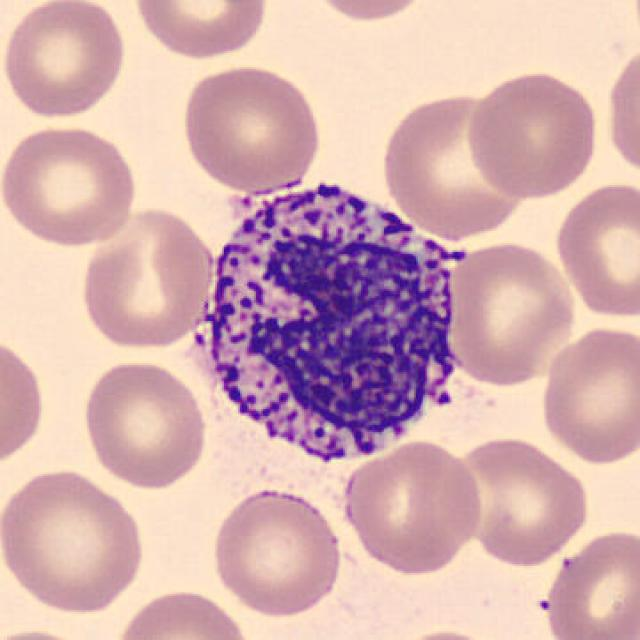Basophil: (176, 163, 482, 482)
RBC: (377, 86, 533, 244), (0, 463, 149, 615), (442, 236, 580, 388), (442, 432, 594, 569), (76, 205, 217, 352), (338, 436, 485, 576), (176, 60, 324, 194), (462, 67, 603, 201), (208, 485, 347, 619), (78, 356, 212, 492), (0, 120, 142, 248), (0, 0, 130, 120), (535, 321, 638, 465), (551, 178, 640, 321), (536, 523, 638, 640), (130, 0, 272, 62), (110, 583, 256, 640), (0, 332, 50, 474), (602, 38, 640, 185), (301, 0, 439, 25), (0, 624, 112, 640), (382, 626, 505, 640)
